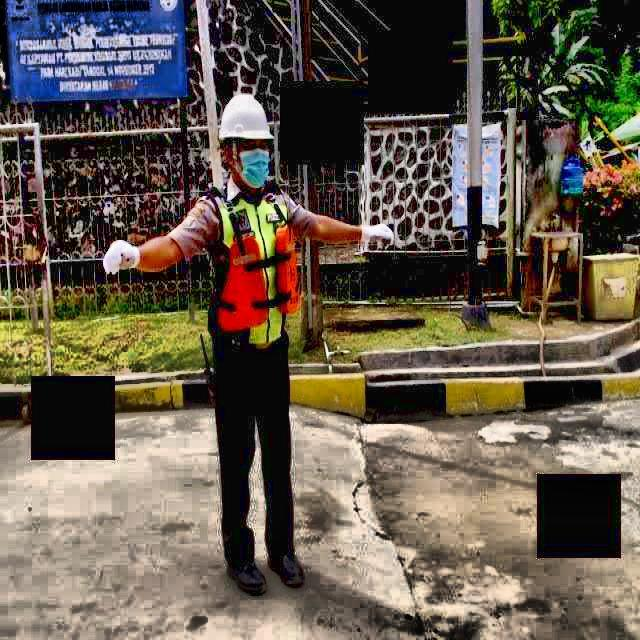safety_helmet: (217, 94, 277, 147)
safety_jacket: (209, 184, 304, 340)
